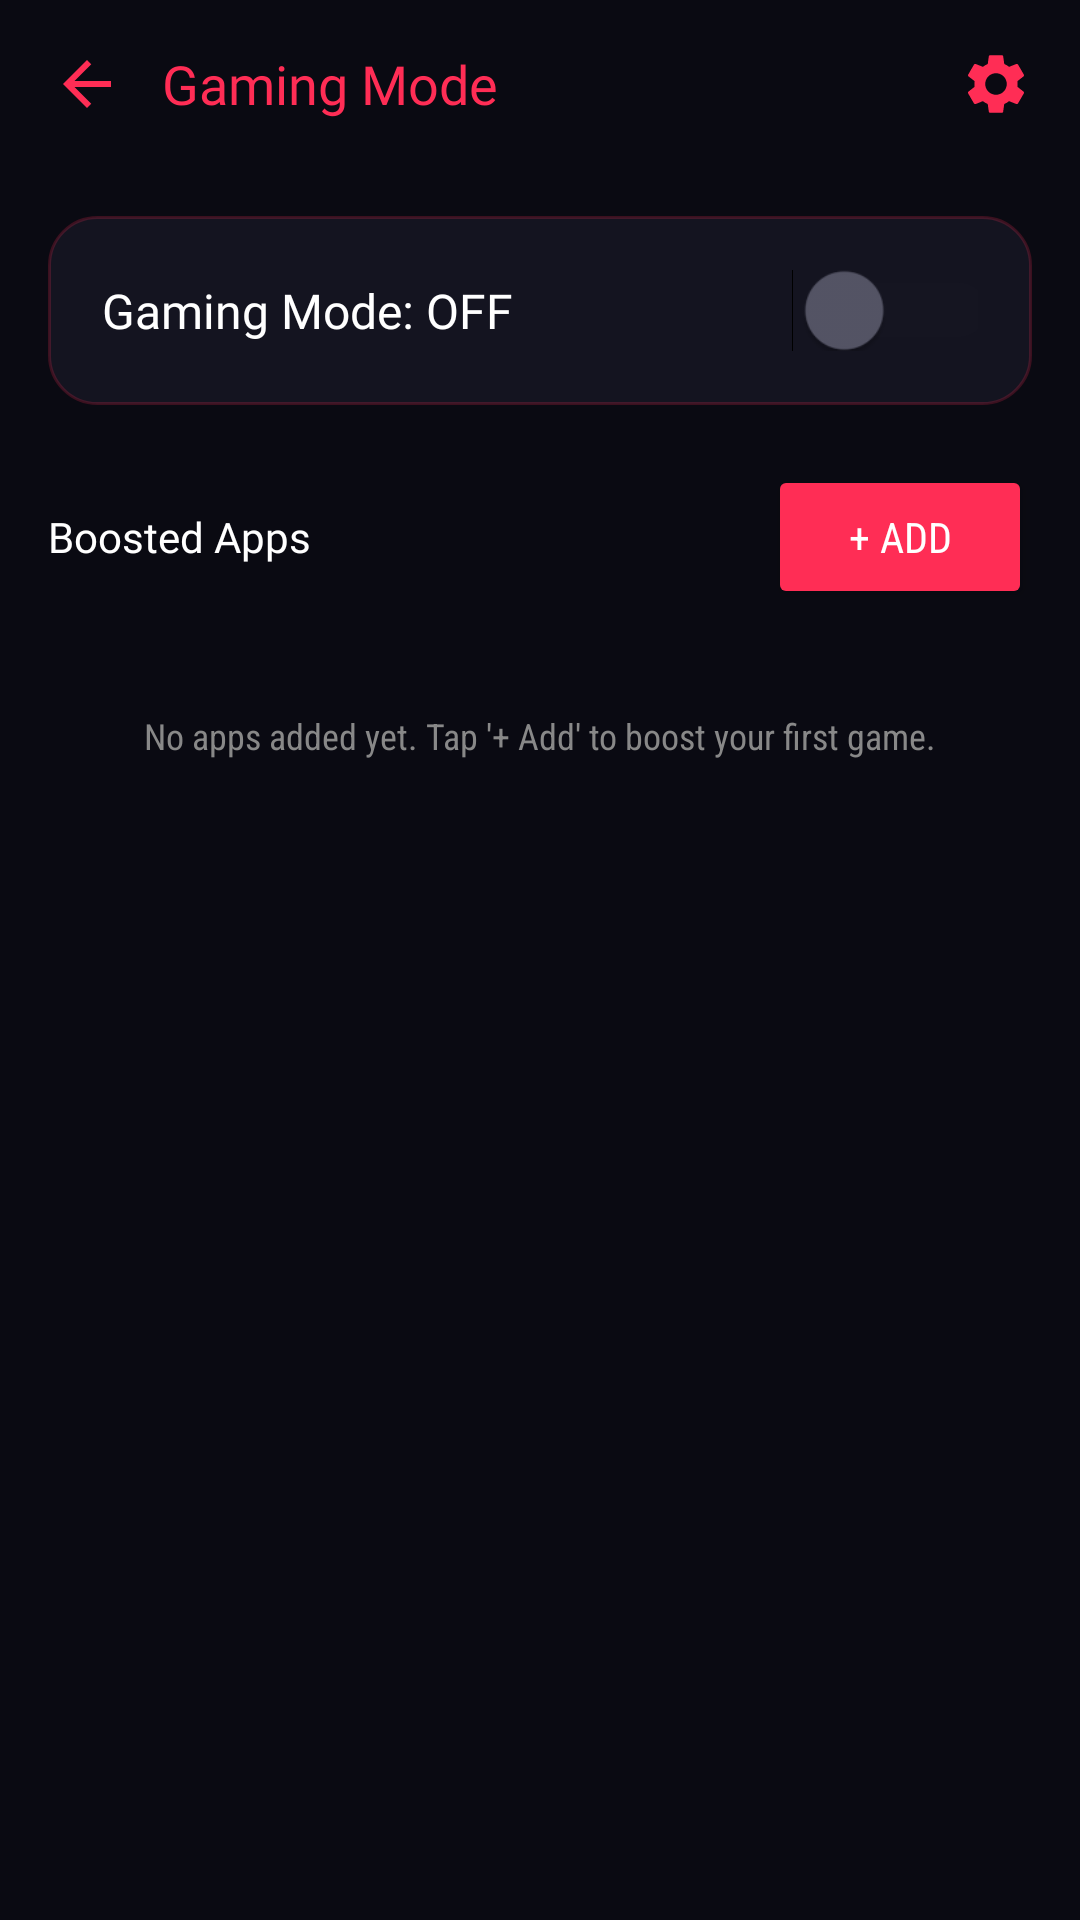

Icon click points for this 1080 × 1920 phone screenshot, format (x,y):
Back: (87,84)
Settings: (996,84)
